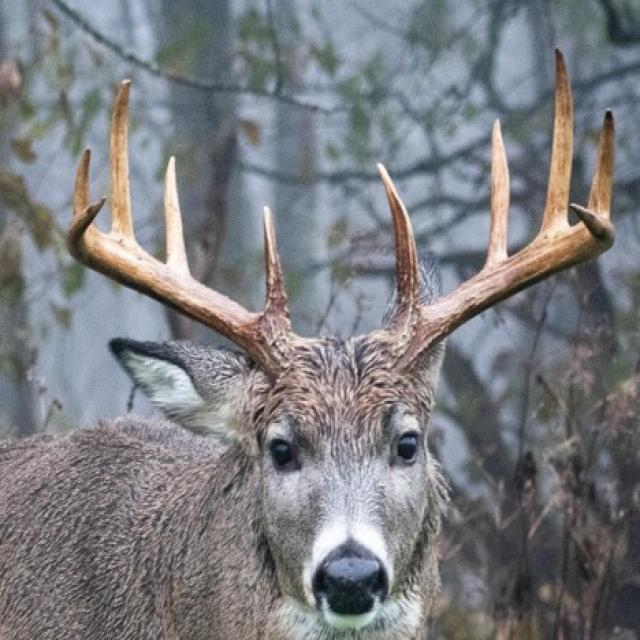L-F: (386, 204, 615, 375)
L-G1: (376, 162, 421, 317)
L-G2: (485, 117, 510, 266)
L-G3: (540, 48, 574, 233)
R-F: (64, 196, 303, 387)
R-G1: (260, 203, 293, 331)
R-G2: (164, 154, 191, 276)
R-G3: (109, 78, 136, 243)
